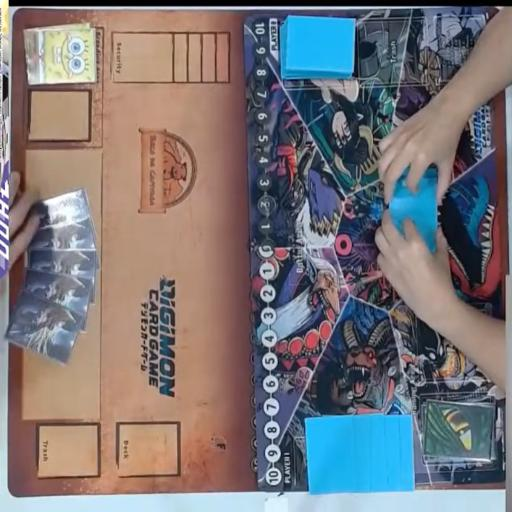card: (8, 292, 86, 369), (18, 271, 91, 331), (27, 248, 95, 302), (24, 216, 98, 260), (22, 188, 94, 233)
